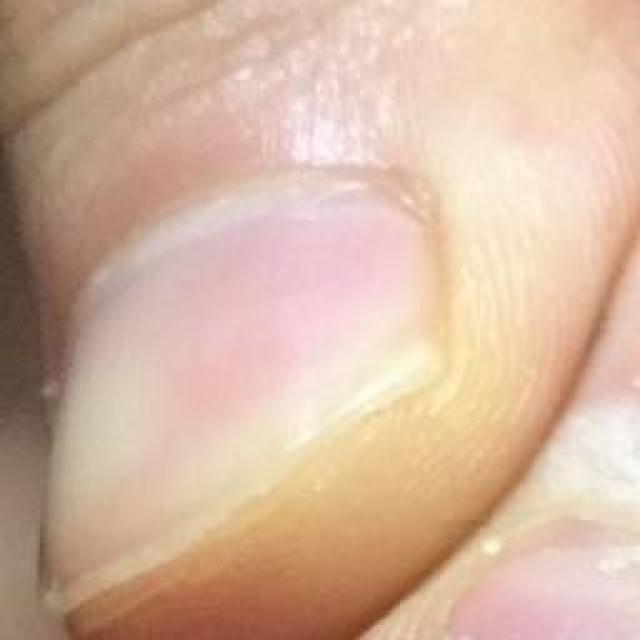Nail: (35, 174, 440, 601)
